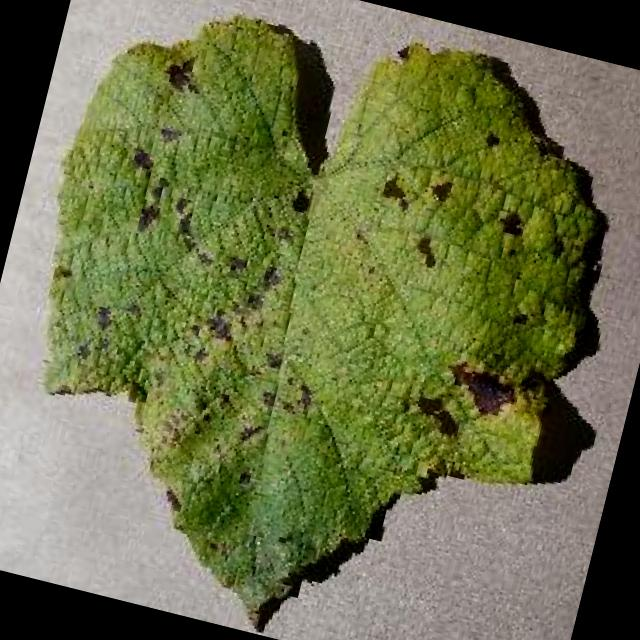leaf_spot: (44, 20, 594, 626)
